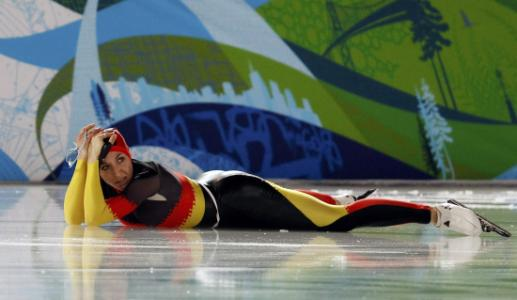fall: (56, 97, 504, 239)
